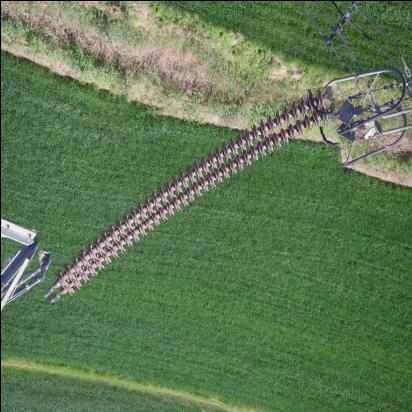insulator: (26, 96, 350, 293)
